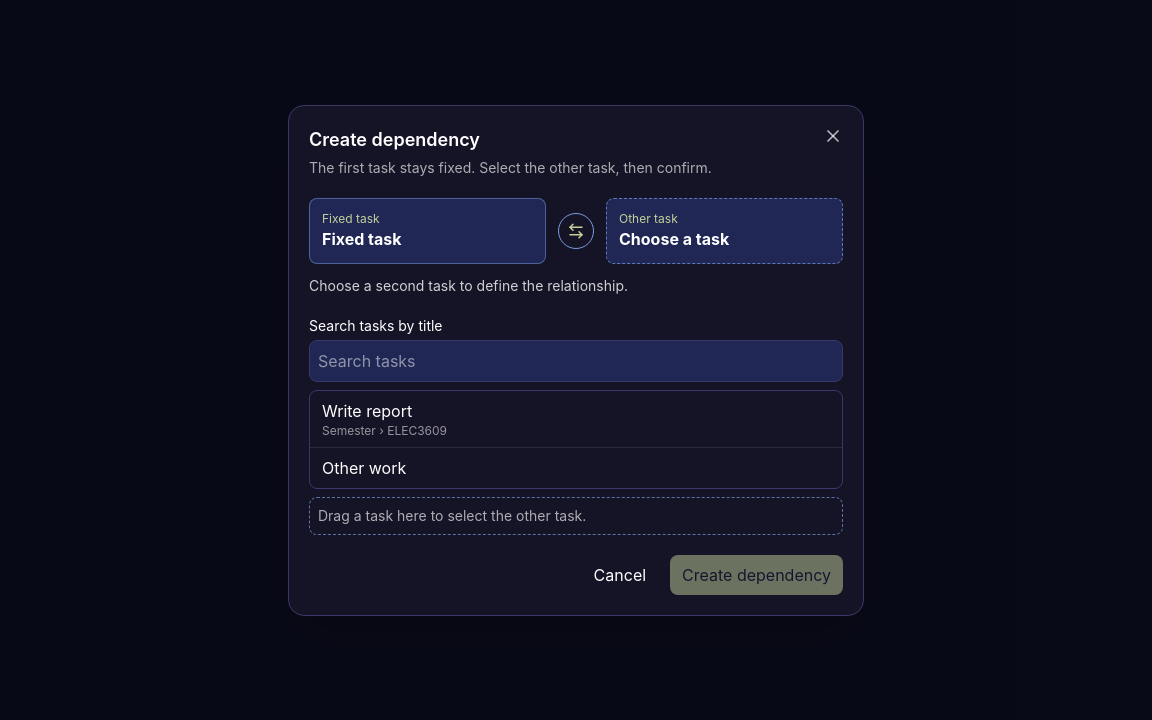
Test: prevents duplicate submissions while creation is pending
Click the button "Write report Semester › ELEC3609". click: [367, 410]
box: [310,390,842,448]
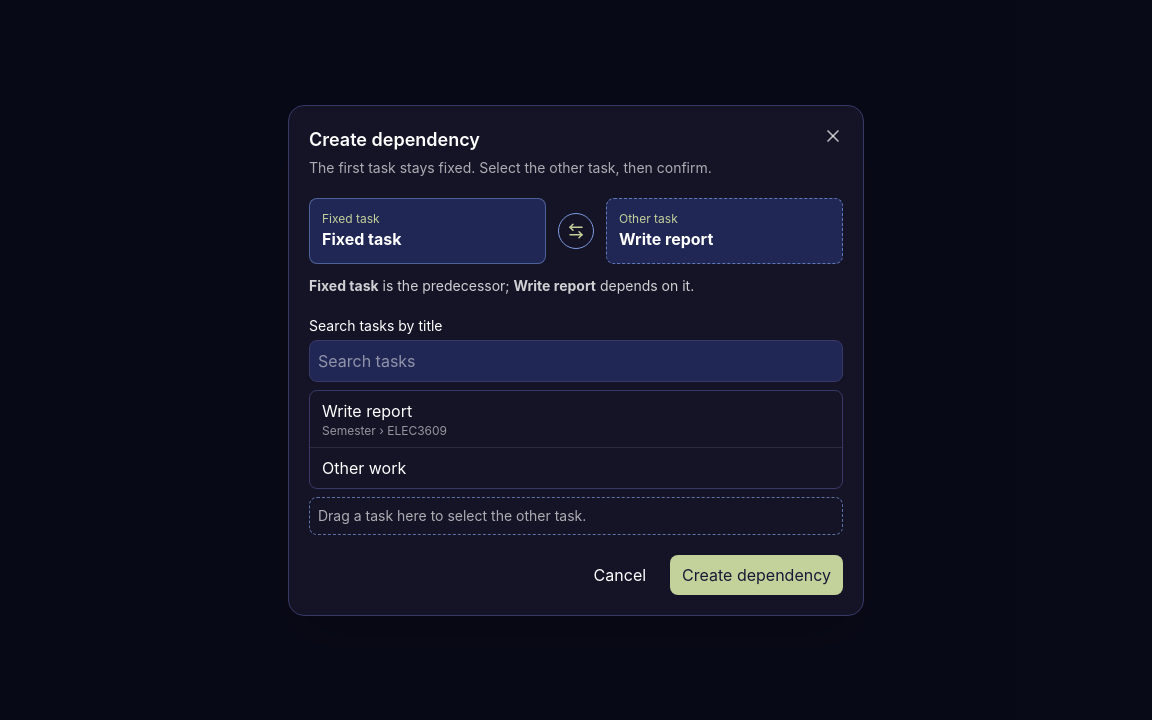
Check: the button "Create dependency" is enabled
Click the button "Create dependency". click: [757, 574]
box: [670,554,843,594]
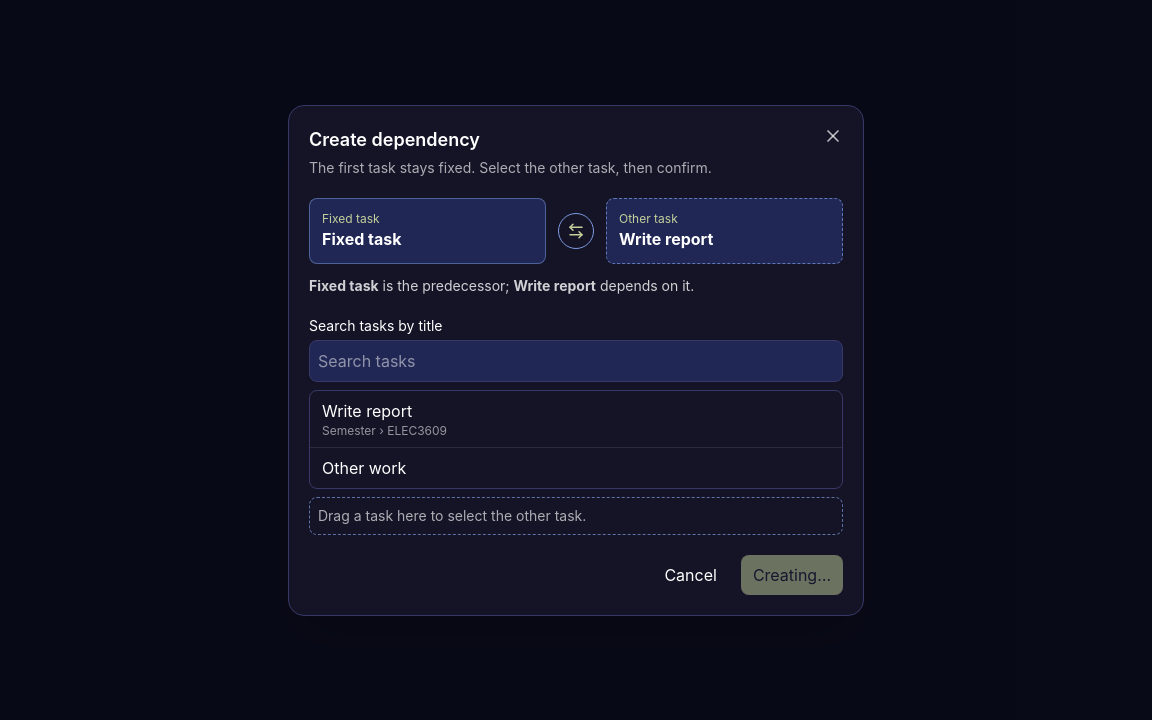
Check: the button "Creating…" is disabled, box [741,554,843,594]
